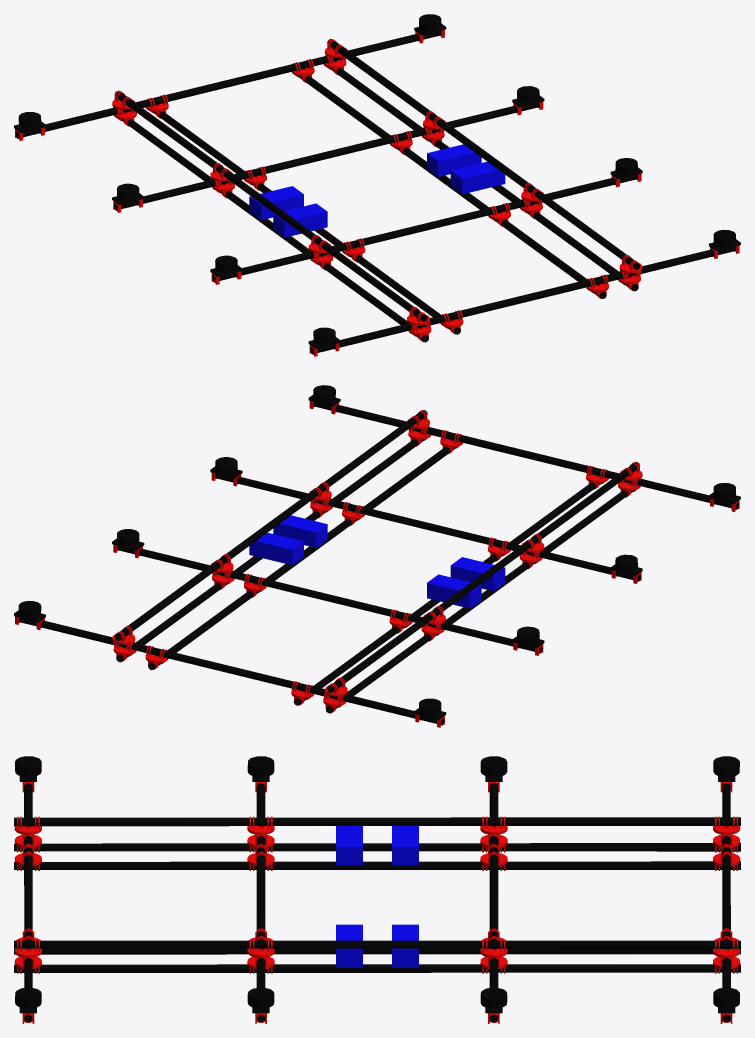
The model's file is main_body.dae.
The picture shows the model from 3 angles, top to bottom: view 1: azimuth 30°, elevation 25°; view 2: azimuth 150°, elevation 25°; view 3: azimuth 270°, elevation 25°; orthographic projection. The views are drawn at different scales.
Visible parts, largest first — view 1: main_body_black, main_body_red, main_body_blue; view 2: main_body_black, main_body_red, main_body_blue; view 3: main_body_black, main_body_red, main_body_blue.
Part boxes in pixels (left/top/right/bottom): main_body_black: left=14, top=14, right=740, bottom=353; main_body_red: left=15, top=30, right=739, bottom=356; main_body_blue: left=249, top=144, right=505, bottom=237; main_body_black: left=14, top=385, right=740, bottom=724; main_body_red: left=15, top=401, right=739, bottom=727; main_body_blue: left=249, top=515, right=505, bottom=608; main_body_black: left=14, top=756, right=740, bottom=1022; main_body_red: left=14, top=782, right=740, bottom=1023; main_body_blue: left=336, top=825, right=418, bottom=967.
Size of the model in its own units: 2 by 2.5 by 0.1481.
